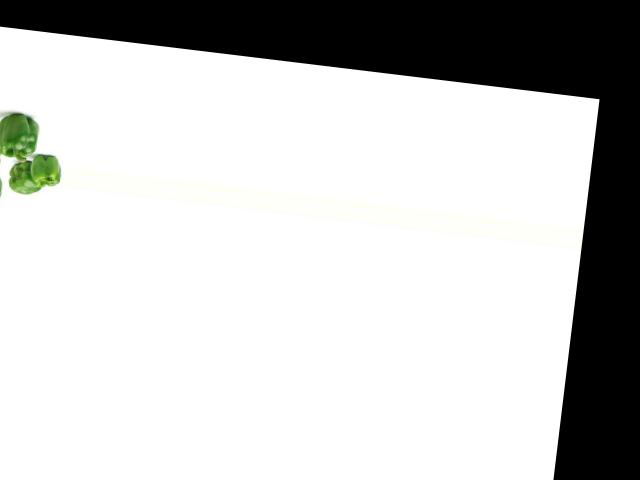bell_pepper: (26, 148, 64, 187)
